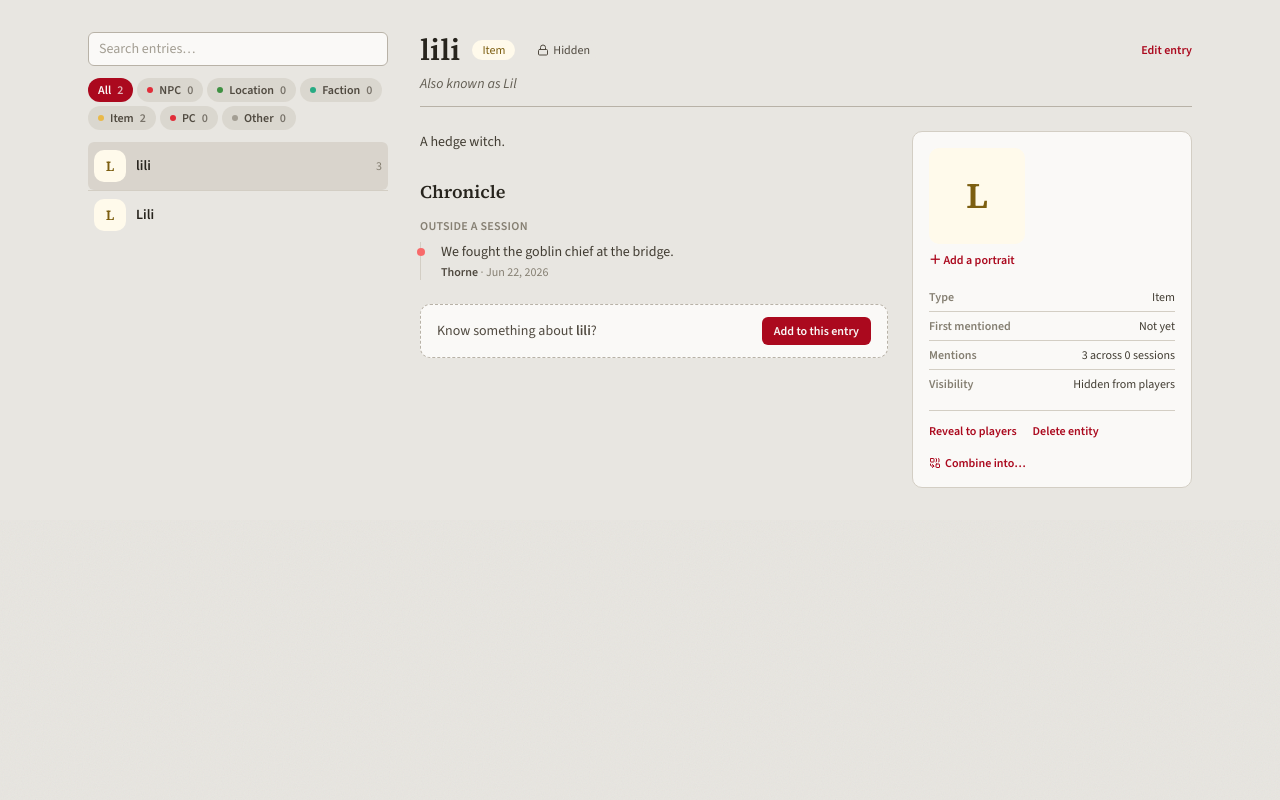
EntityDetailPage (#248) › Combine into… (#1943) › omits the item-link warning when the duplicate doesn't front a campaign item
The width and height of the screenshot is (1280, 800).
Click the button "Combine into…" at (977, 463), box top-left (929, 455), bottom-right (1026, 471)
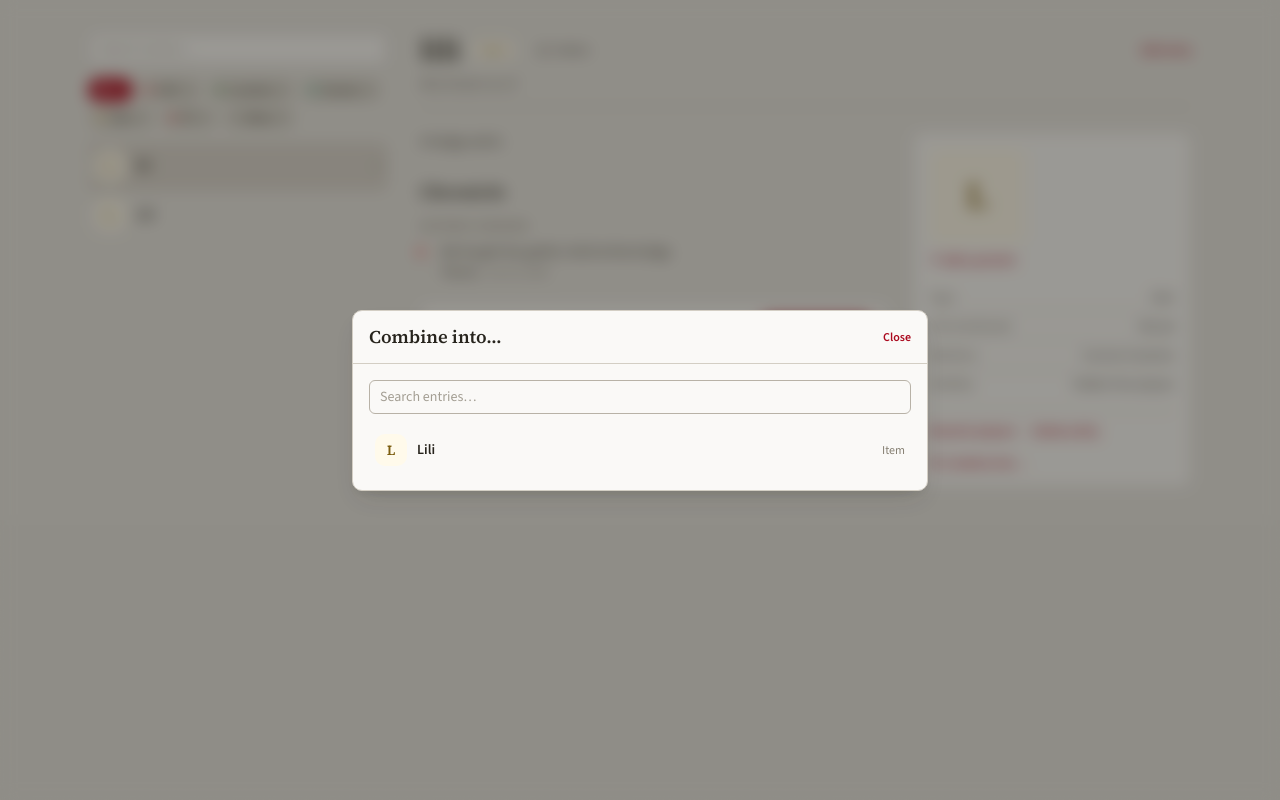
Click the button "L Lili Item" at (391, 450), box top-left (369, 426), bottom-right (911, 474)
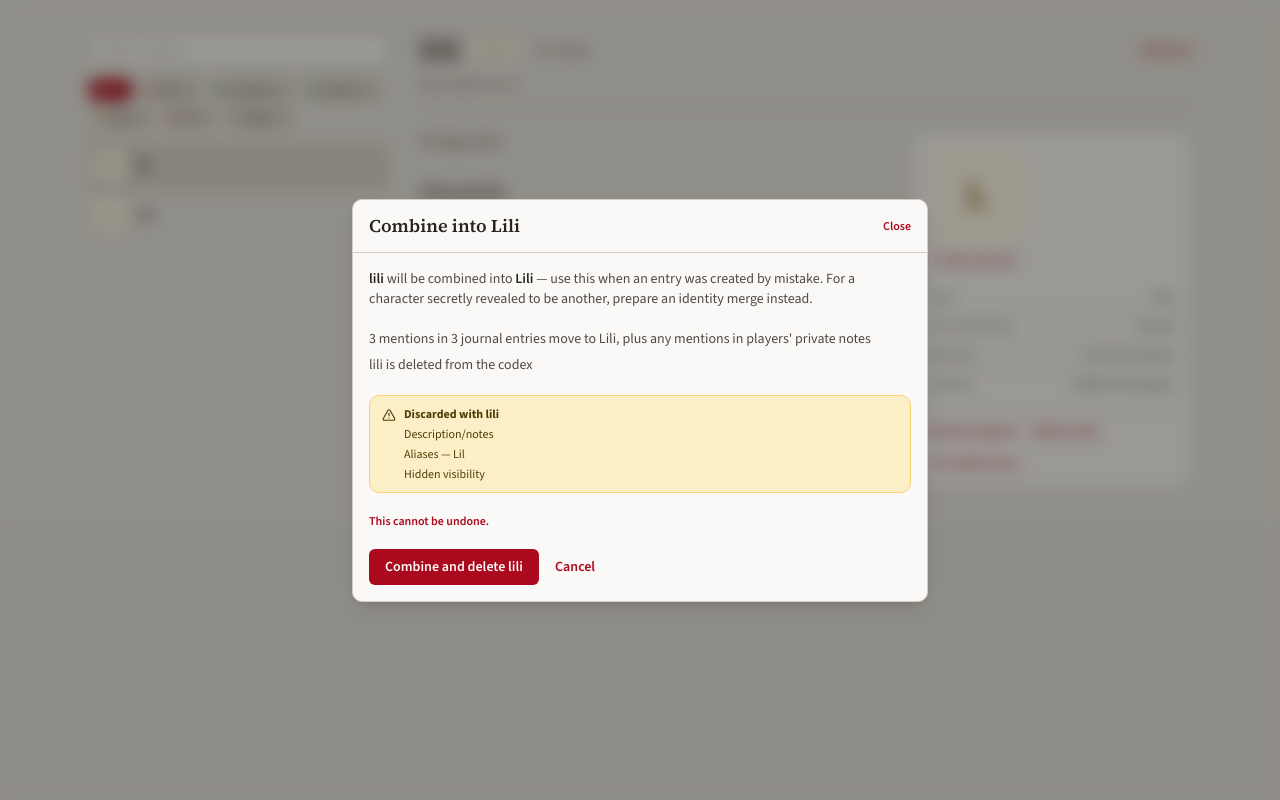
Now the heading "Combine into Lili" is shown, box top-left (369, 212), bottom-right (520, 240)
